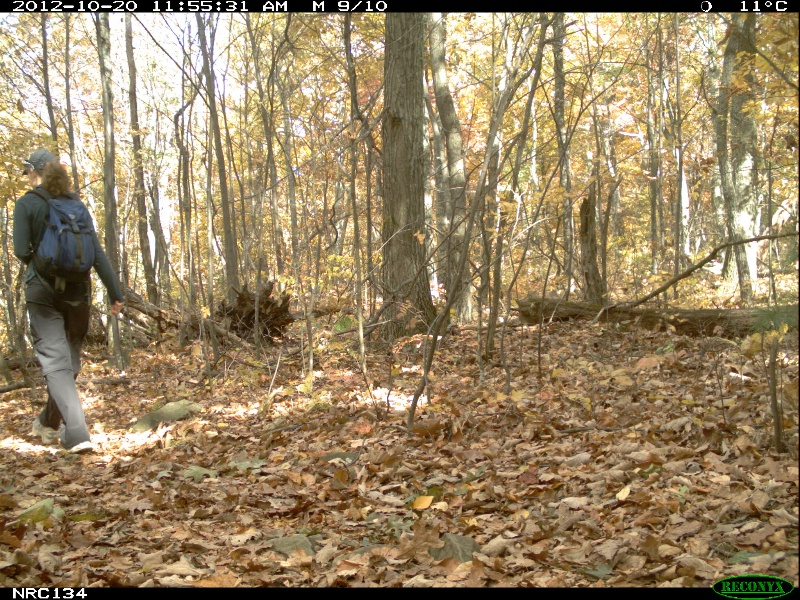human: (12, 138, 123, 454)
human legs: (19, 267, 99, 455)
